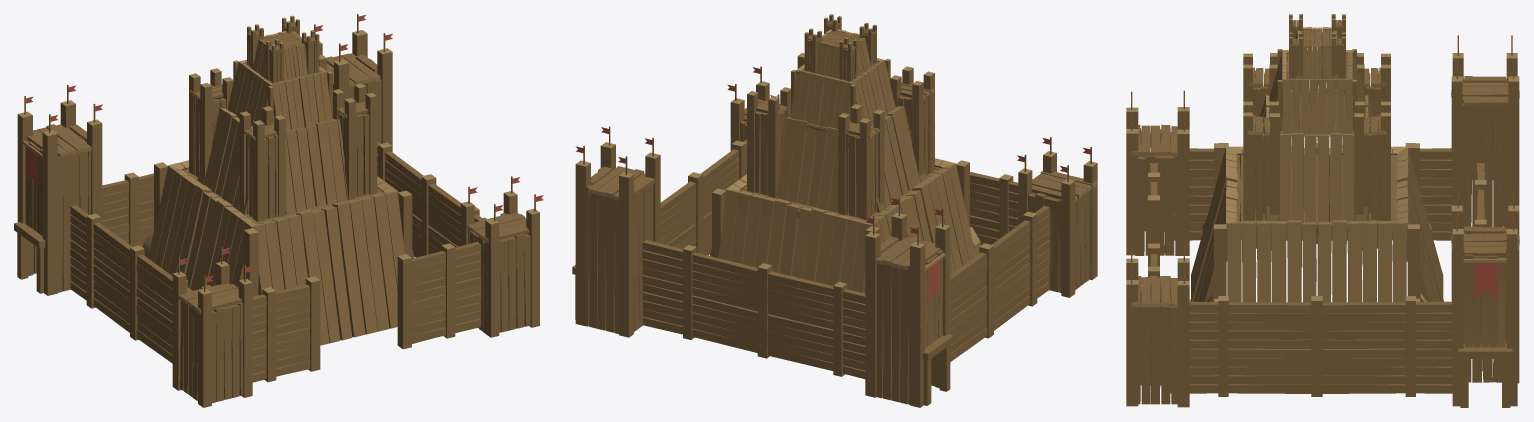
Rendered from wonder.glb.
The picture shows the model from 3 angles, left to right: view 1: azimuth 30°, elevation 25°; view 2: azimuth 150°, elevation 25°; view 3: azimuth 270°, elevation 25°; orthographic projection. The views are drawn at different scales.
Parts seen in each view (by area): view 1: Wonder_FirstAge_Level3; view 2: Wonder_FirstAge_Level3; view 3: Wonder_FirstAge_Level3.
Boxes of the visible parts, x1,y1,x2,y2 form: Wonder_FirstAge_Level3: (14, 14, 543, 407); Wonder_FirstAge_Level3: (572, 14, 1097, 407); Wonder_FirstAge_Level3: (1126, 14, 1519, 407).
Size of the model in its own units: 2.2 by 1.6 by 1.95.
